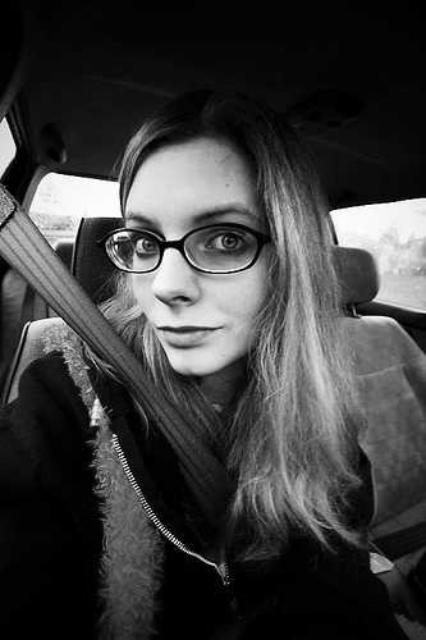SafeDriving: (194, 220, 252, 262), (120, 225, 167, 264)
Seatbelt: (1, 178, 234, 504)
